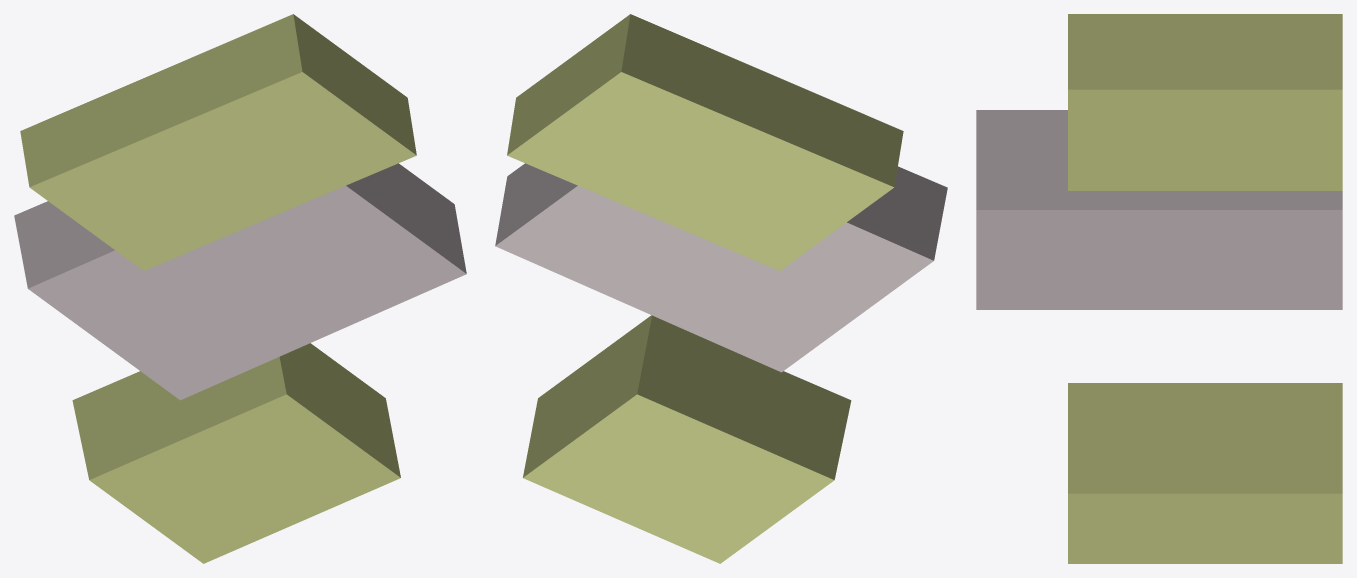
3 views of the same model, side by side, from view 1: azimuth 30°, elevation 25°; view 2: azimuth 150°, elevation 25°; view 3: azimuth 270°, elevation 25° (orthographic). The views are drawn at different scales.
Visible parts, largest first — view 1: 0_1_2_3_3_3_3_3_1_3; view 2: 0_1_2_3_3_3_3_3_1_3; view 3: 0_1_2_3_3_3_3_3_1_3.
Part boxes in pixels (x1,y1,x2,y2): 0_1_2_3_3_3_3_3_1_3: [14, 14, 466, 563]; 0_1_2_3_3_3_3_3_1_3: [495, 14, 947, 563]; 0_1_2_3_3_3_3_3_1_3: [976, 14, 1342, 563].
Bounding box in the file's own units: 13.64 × 18.08 × 12.
